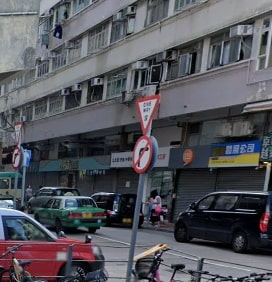Give Way: (133, 93, 161, 136), (12, 121, 23, 147)
No Turn Right: (132, 137, 155, 175), (8, 147, 22, 172)
One Way Traffic: (22, 149, 31, 168)
